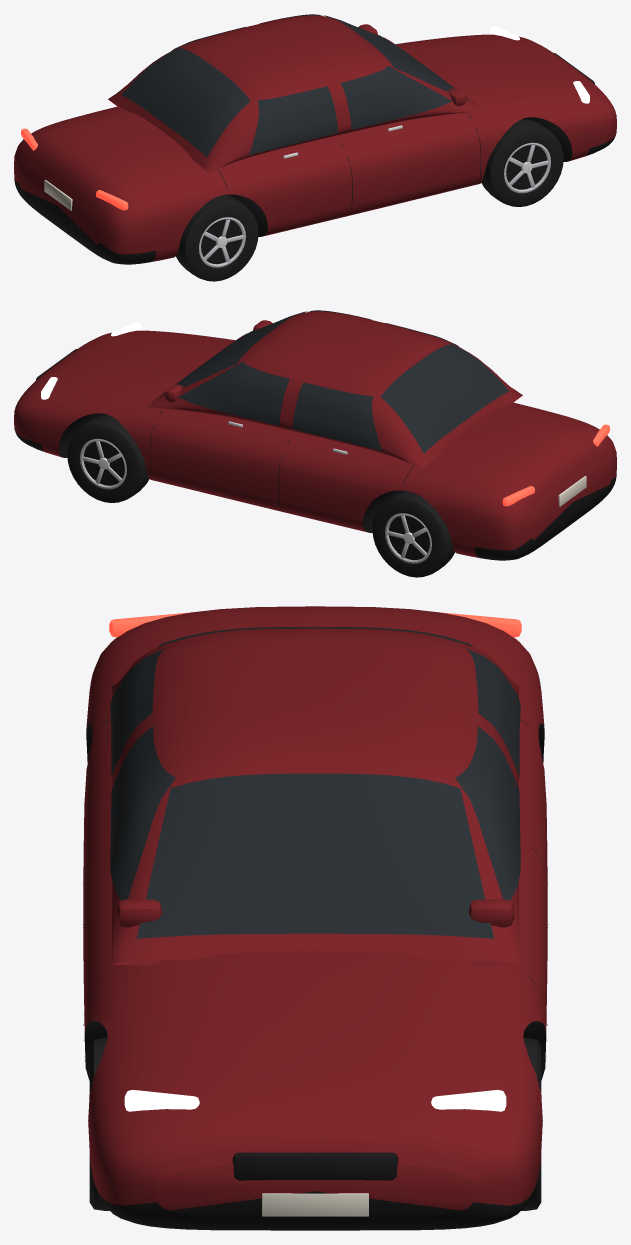
Rendered from car_sedan.glb.
3 views of the same model, one above another, from view 1: azimuth 30°, elevation 25°; view 2: azimuth 150°, elevation 25°; view 3: azimuth 270°, elevation 25° (orthographic). The views are drawn at different scales.
Visible parts, largest first — view 1: Body_LOD0, Glass_LOD0, Cabin_LOD0, Tyre_LOD0.001, Tyre_LOD0.003, Barrel_LOD0.001, Barrel_LOD0.003, Lip_LOD0.001, Lip_LOD0.003, PlateR_LOD0; view 2: Body_LOD0, Glass_LOD0, Cabin_LOD0, Tyre_LOD0, Tyre_LOD0.002, Barrel_LOD0, Barrel_LOD0.002, Lip_LOD0, Lip_LOD0.002, PlateR_LOD0; view 3: Body_LOD0, Glass_LOD0, Cabin_LOD0, Grille_LOD0, Plate_LOD0, Head_LOD0, Head_LOD0.001, Mirror_LOD0, Mirror_LOD0.001, Tyre_LOD0, Tyre_LOD0.001.
Part boxes in pixels (x1=…): Body_LOD0: x1=14, y1=34, x2=616, y2=264; Glass_LOD0: x1=122, y1=14, x2=468, y2=157; Cabin_LOD0: x1=108, y1=15, x2=484, y2=173; Tyre_LOD0.001: x1=481, y1=119, x2=563, y2=206; Tyre_LOD0.003: x1=175, y1=195, x2=258, y2=281; Barrel_LOD0.001: x1=506, y1=145, x2=547, y2=189; Barrel_LOD0.003: x1=201, y1=219, x2=241, y2=264; Lip_LOD0.001: x1=504, y1=142, x2=550, y2=193; Lip_LOD0.003: x1=199, y1=217, x2=245, y2=267; PlateR_LOD0: x1=44, y1=180, x2=72, y2=210; Body_LOD0: x1=14, y1=330, x2=616, y2=560; Glass_LOD0: x1=162, y1=310, x2=508, y2=453; Cabin_LOD0: x1=146, y1=311, x2=522, y2=469; Tyre_LOD0: x1=67, y1=415, x2=149, y2=502; Tyre_LOD0.002: x1=372, y1=491, x2=455, y2=577; Barrel_LOD0: x1=83, y1=441, x2=124, y2=485; Barrel_LOD0.002: x1=389, y1=515, x2=429, y2=560; Lip_LOD0: x1=80, y1=438, x2=126, y2=489; Lip_LOD0.002: x1=385, y1=513, x2=431, y2=563; PlateR_LOD0: x1=558, y1=476, x2=586, y2=506; Body_LOD0: x1=83, y1=606, x2=547, y2=1230; Glass_LOD0: x1=110, y1=626, x2=520, y2=938; Cabin_LOD0: x1=112, y1=628, x2=518, y2=965; Grille_LOD0: x1=232, y1=1152, x2=398, y2=1180; Plate_LOD0: x1=262, y1=1193, x2=368, y2=1216; Head_LOD0: x1=431, y1=1090, x2=506, y2=1111; Head_LOD0.001: x1=124, y1=1090, x2=199, y2=1111; Mirror_LOD0: x1=468, y1=899, x2=514, y2=927; Mirror_LOD0.001: x1=116, y1=899, x2=162, y2=927; Tyre_LOD0: x1=521, y1=1037, x2=541, y2=1210; Tyre_LOD0.001: x1=89, y1=1037, x2=109, y2=1210.
Size of what is drawn, in the model's own units: 4.69 by 1.45 by 1.83.
